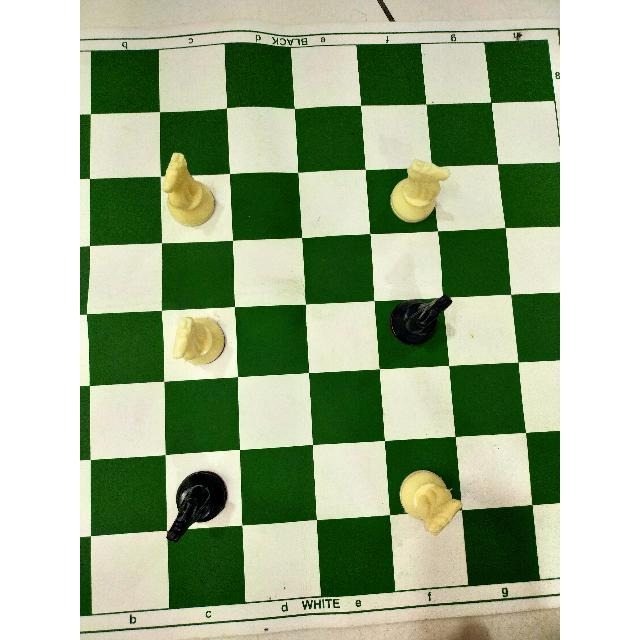black-knight: (162, 467, 232, 545), (387, 292, 454, 348)
white-knight: (397, 467, 467, 538), (158, 149, 217, 229), (387, 157, 453, 227), (169, 315, 227, 367)
